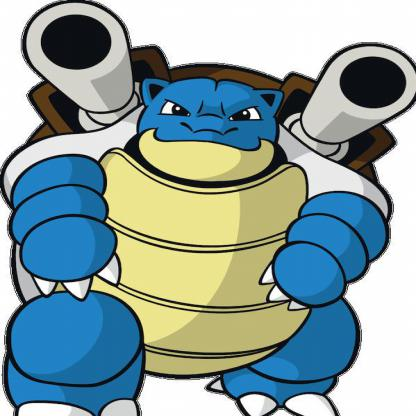Blastoise: (1, 1, 416, 405)
